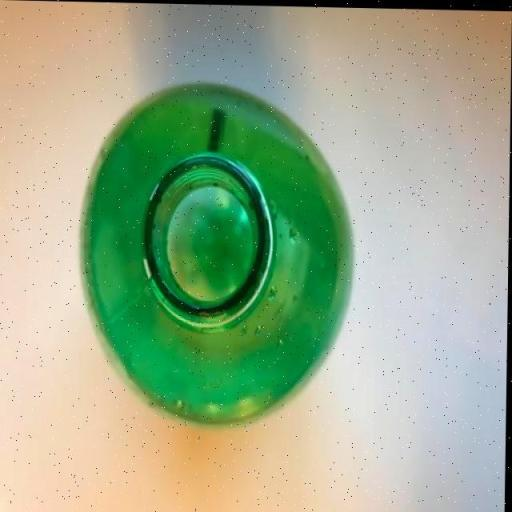plastic: (79, 77, 362, 430)
